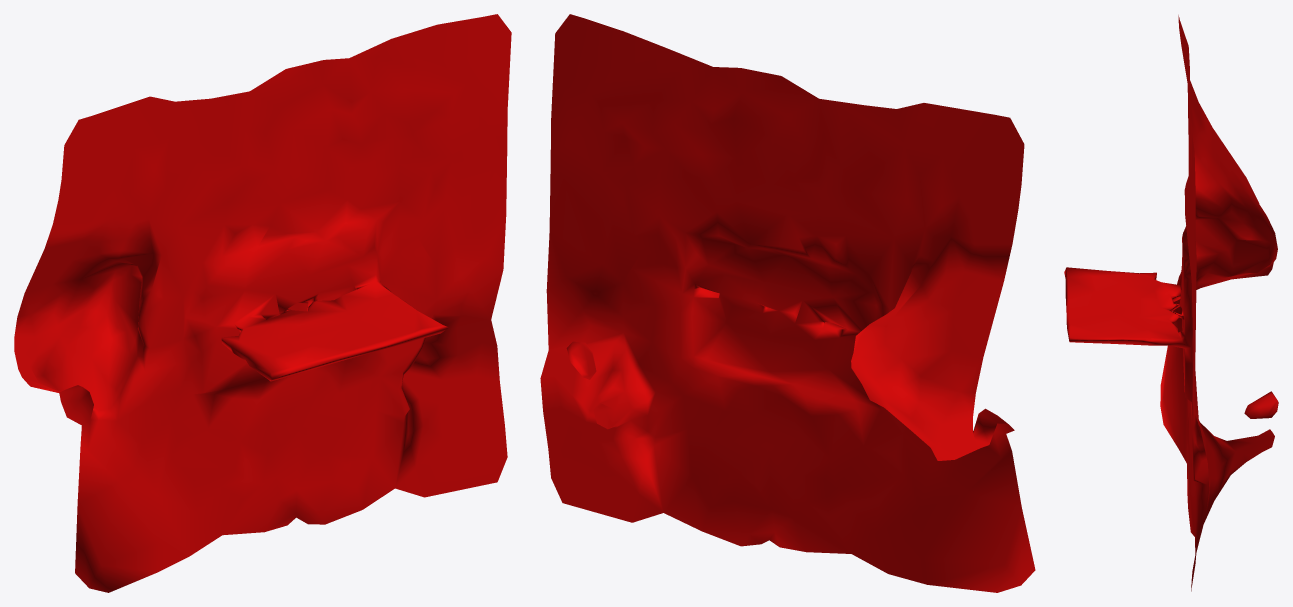
The model's file is simplified_mesh.obj.
3 renders of one model, left to right at view 1: azimuth 30°, elevation 25°; view 2: azimuth 150°, elevation 25°; view 3: azimuth 270°, elevation 25°, orthographic. The views are drawn at different scales.
Size of the model in its own units: 0.7976 by 0.7976 by 0.3858.
